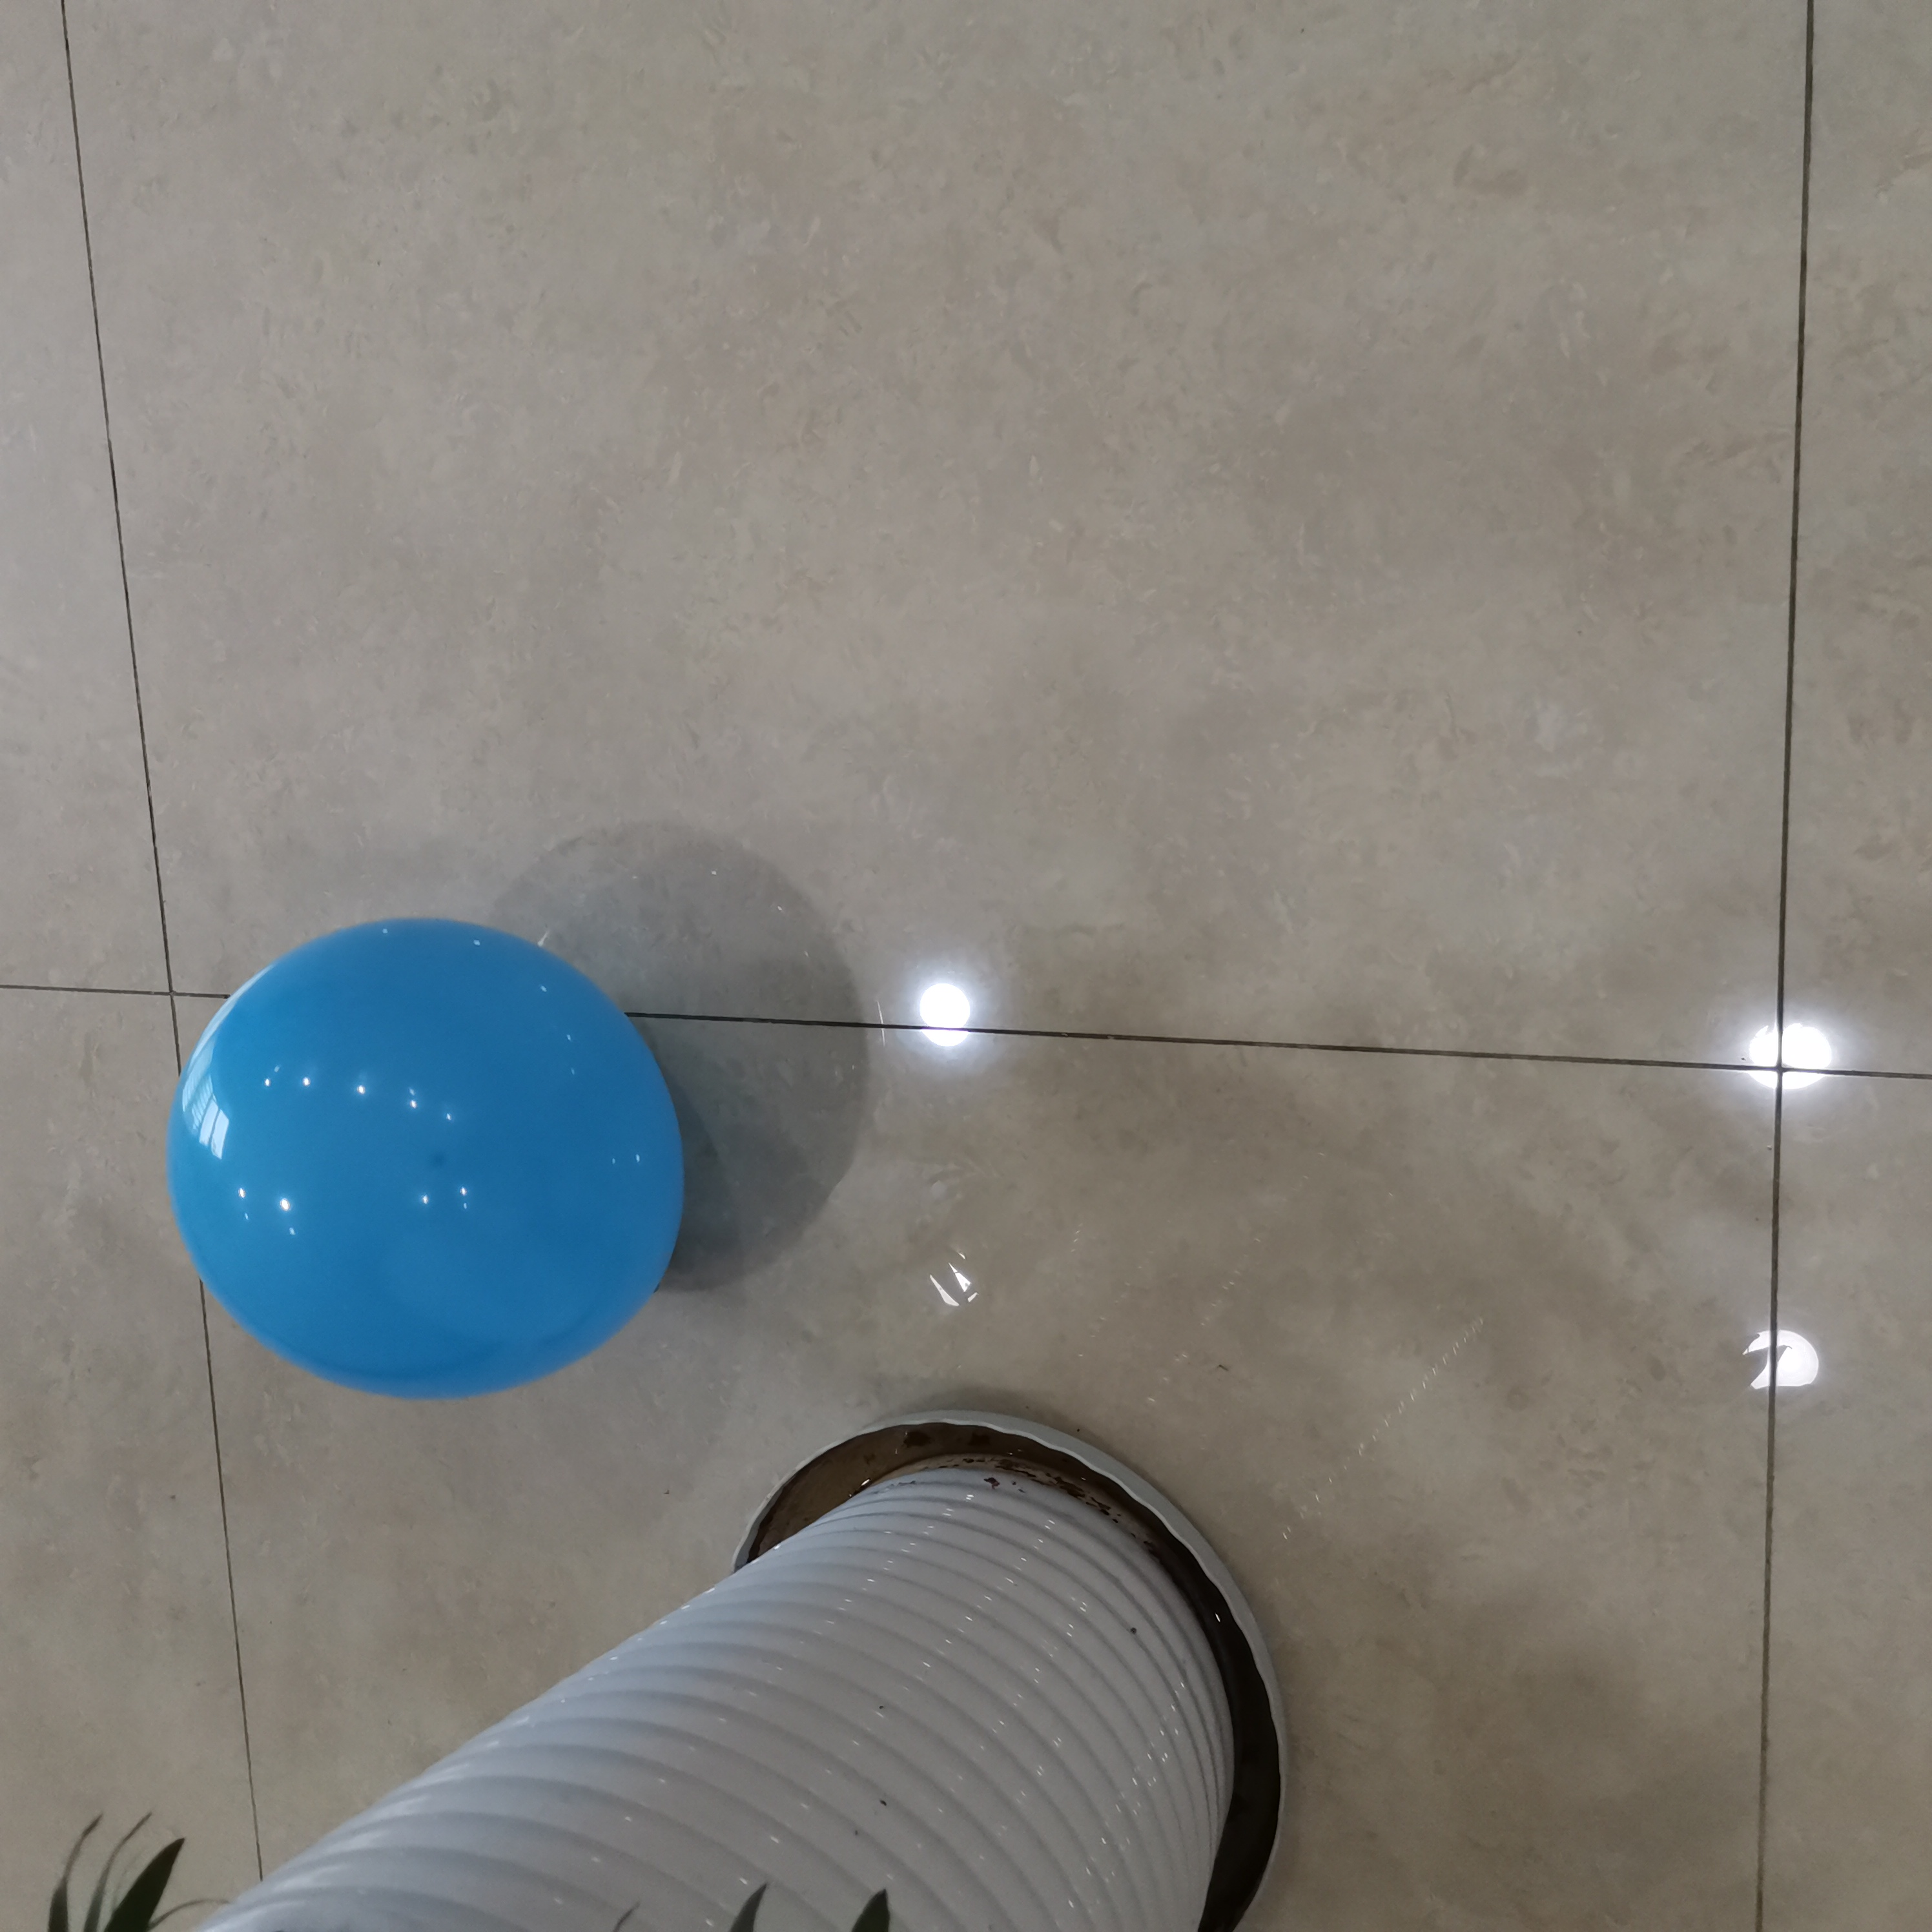balloon: (165, 915, 686, 1407)
